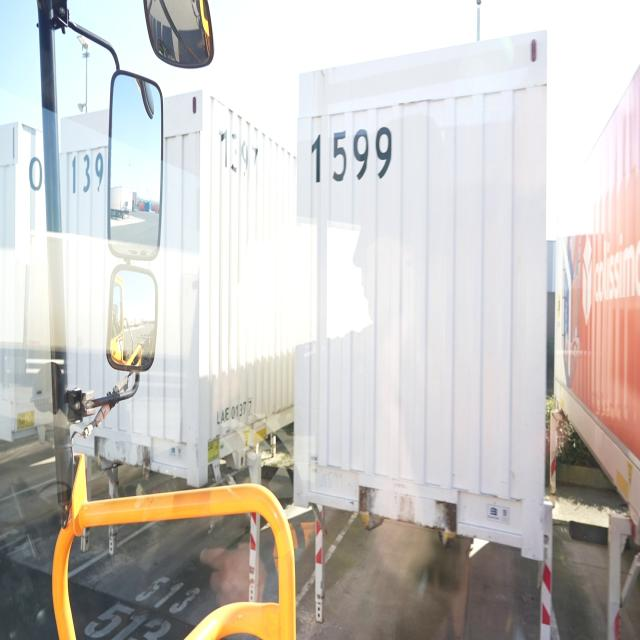Code: (308, 114, 397, 196)
